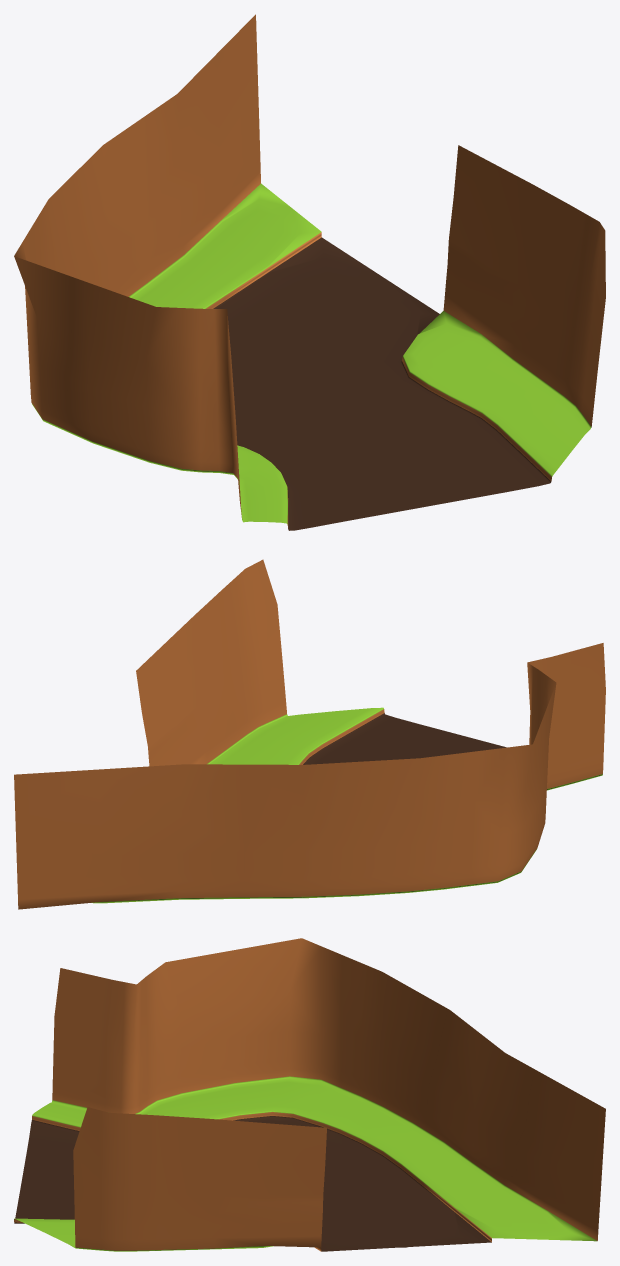
The picture shows the model from 3 angles, top to bottom: view 1: azimuth 30°, elevation 25°; view 2: azimuth 150°, elevation 25°; view 3: azimuth 270°, elevation 25°; orthographic projection. The views are drawn at different scales.
Parts seen in each view (by area): view 1: pCube1; view 2: pCube1; view 3: pCube1.
Part boxes in pixels (box(x1,y1,x2,y2)): pCube1: box(14, 14, 605, 530); pCube1: box(14, 559, 605, 909); pCube1: box(14, 938, 605, 1251).
Size of the model in its own units: 266 by 107 by 366.
Materials: 1 (1 with a texture image).
